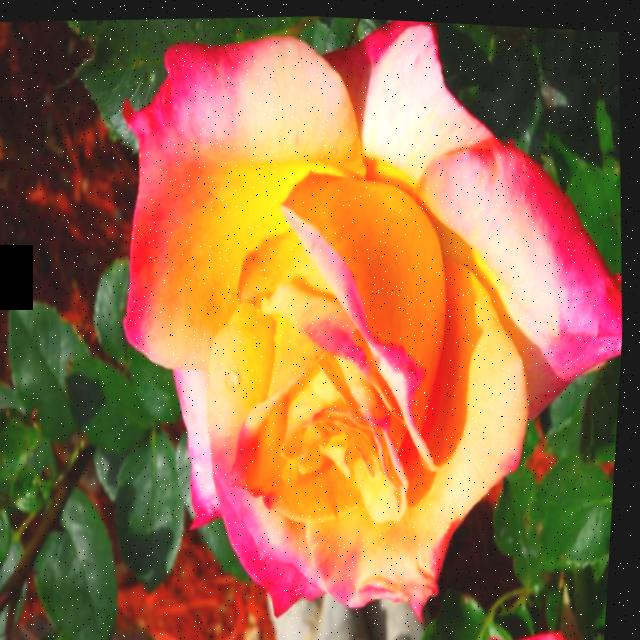rose: (0, 16, 639, 640)
